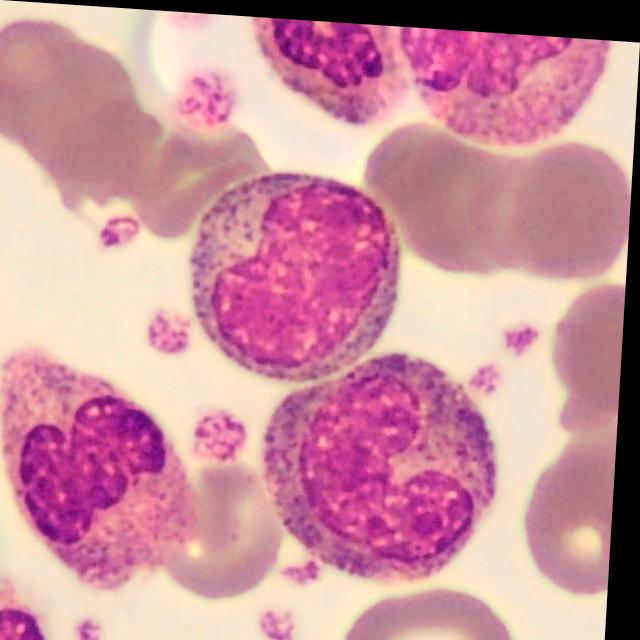Metamielocito: (193, 170, 404, 379)
